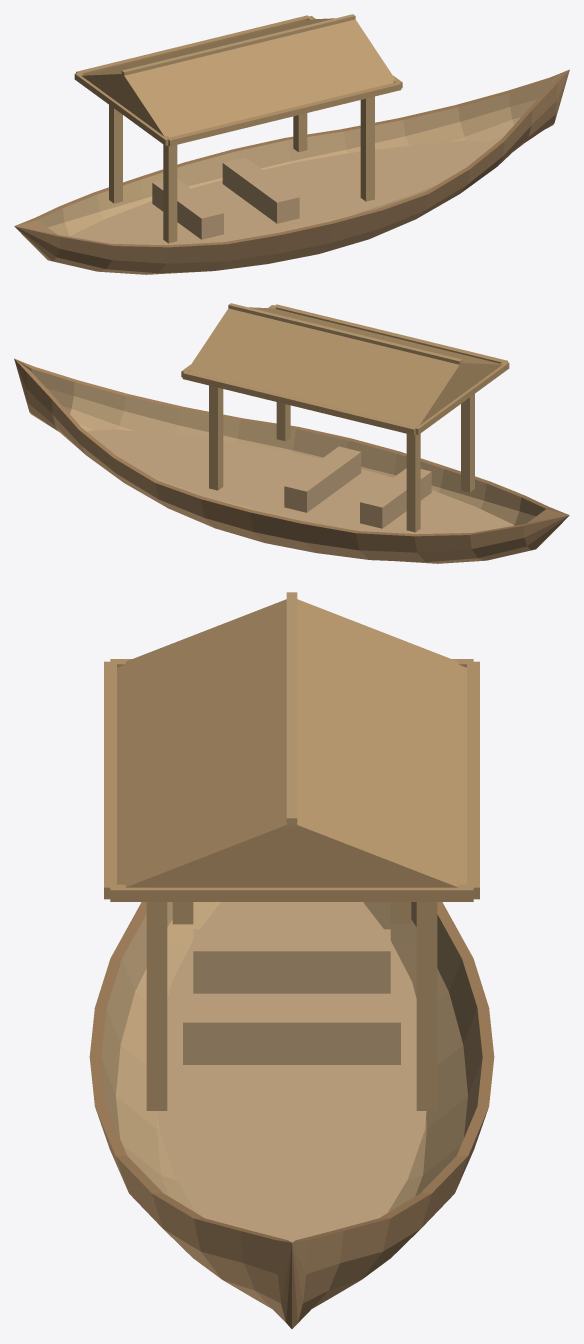
Rendered from boat with canopy.fbx.
3 views of the same model, one above another, from view 1: azimuth 30°, elevation 25°; view 2: azimuth 150°, elevation 25°; view 3: azimuth 270°, elevation 25° (orthographic). The views are drawn at different scales.
Parts seen in each view (by area): view 1: Boat_With_Canopy; view 2: Boat_With_Canopy; view 3: Boat_With_Canopy.
Part boxes in pixels (bbox=[...]): Boat_With_Canopy: bbox=[14, 14, 569, 274]; Boat_With_Canopy: bbox=[14, 303, 569, 563]; Boat_With_Canopy: bbox=[89, 592, 494, 1328].
Bounding box in the file's own units: 495 × 181 × 156.
